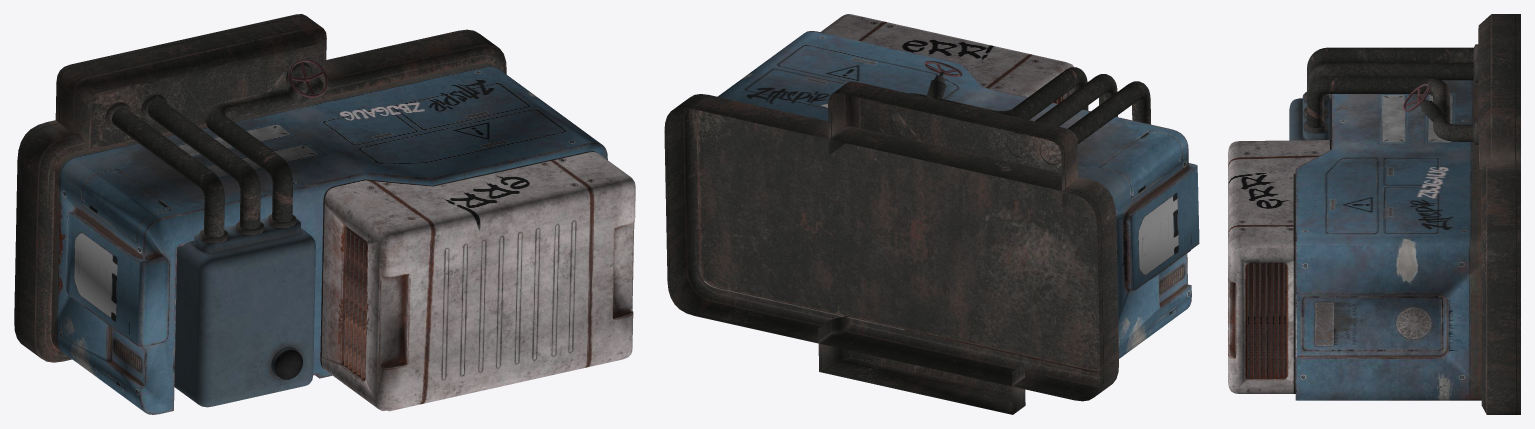
The model's file is Generator Asset.obj.
3 renders of one model, left to right at view 1: azimuth 30°, elevation 25°; view 2: azimuth 150°, elevation 25°; view 3: azimuth 270°, elevation 25°, orthographic. The views are drawn at different scales.
Parts seen in each view (by area): view 1: desirefx_me_055, desirefx_me_003, desirefx_me_002, desirefx_me_005, desirefx_me_001, desirefx_me_012, desirefx_me_009, desirefx_me_011, desirefx_me_006, desirefx_me_007, desirefx_me_017, desirefx_me_014 (+3 smaller); view 2: desirefx_me_001, desirefx_me_055, desirefx_me_005, desirefx_me_003, desirefx_me_004, desirefx_me_009, desirefx_me_012, desirefx_me_011; view 3: desirefx_me_055, desirefx_me_003, desirefx_me_001, desirefx_me_005, desirefx_me_012, desirefx_me_009, desirefx_me_011, desirefx_me_002, desirefx_me_006, desirefx_me_023, desirefx_me_020, desirefx_me_024 (+5 smaller).
Part boxes in pixels (bbox=[...]): desirefx_me_055: bbox=[51, 62, 607, 414]; desirefx_me_003: bbox=[320, 151, 635, 411]; desirefx_me_002: bbox=[174, 228, 315, 407]; desirefx_me_005: bbox=[55, 14, 326, 150]; desirefx_me_001: bbox=[14, 29, 506, 362]; desirefx_me_012: bbox=[205, 67, 323, 222]; desirefx_me_009: bbox=[112, 107, 224, 237]; desirefx_me_011: bbox=[148, 99, 260, 229]; desirefx_me_006: bbox=[194, 217, 300, 252]; desirefx_me_007: bbox=[271, 347, 302, 379]; desirefx_me_017: bbox=[347, 230, 354, 368]; desirefx_me_014: bbox=[360, 239, 367, 378]; desirefx_me_001: bbox=[664, 94, 1118, 401]; desirefx_me_055: bbox=[696, 31, 1199, 372]; desirefx_me_005: bbox=[828, 81, 1078, 206]; desirefx_me_003: bbox=[820, 14, 1074, 100]; desirefx_me_004: bbox=[818, 315, 1025, 414]; desirefx_me_009: bbox=[1067, 81, 1150, 144]; desirefx_me_012: bbox=[909, 67, 1088, 119]; desirefx_me_011: bbox=[1035, 74, 1117, 126]; desirefx_me_055: bbox=[1295, 80, 1481, 400]; desirefx_me_003: bbox=[1228, 140, 1331, 393]; desirefx_me_001: bbox=[1481, 160, 1520, 414]; desirefx_me_005: bbox=[1478, 14, 1520, 169]; desirefx_me_012: bbox=[1307, 76, 1473, 141]; desirefx_me_009: bbox=[1307, 47, 1473, 81]; desirefx_me_011: bbox=[1307, 63, 1473, 94]; desirefx_me_002: bbox=[1289, 98, 1331, 140]; desirefx_me_006: bbox=[1302, 94, 1329, 140]; desirefx_me_023: bbox=[1271, 263, 1274, 378]; desirefx_me_020: bbox=[1253, 263, 1255, 378]; desirefx_me_024: bbox=[1278, 263, 1280, 378].
Size of the model in its own units: 8.49 by 5.39 by 5.44.
